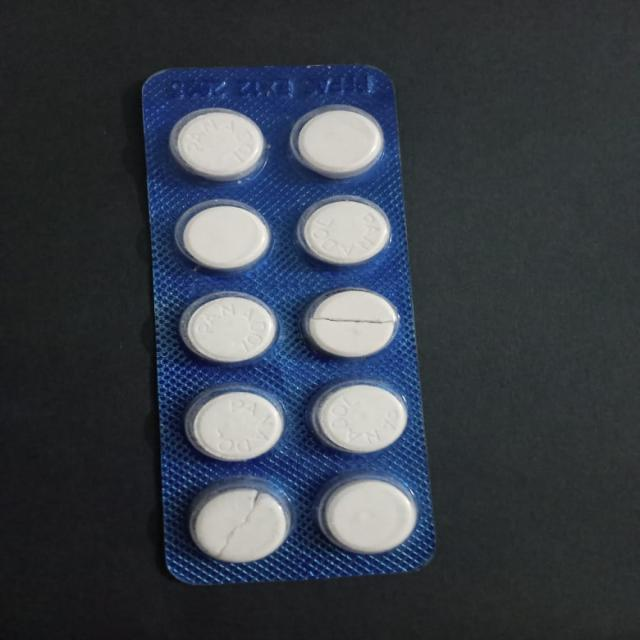defect: (184, 478, 296, 565), (300, 285, 404, 362)
